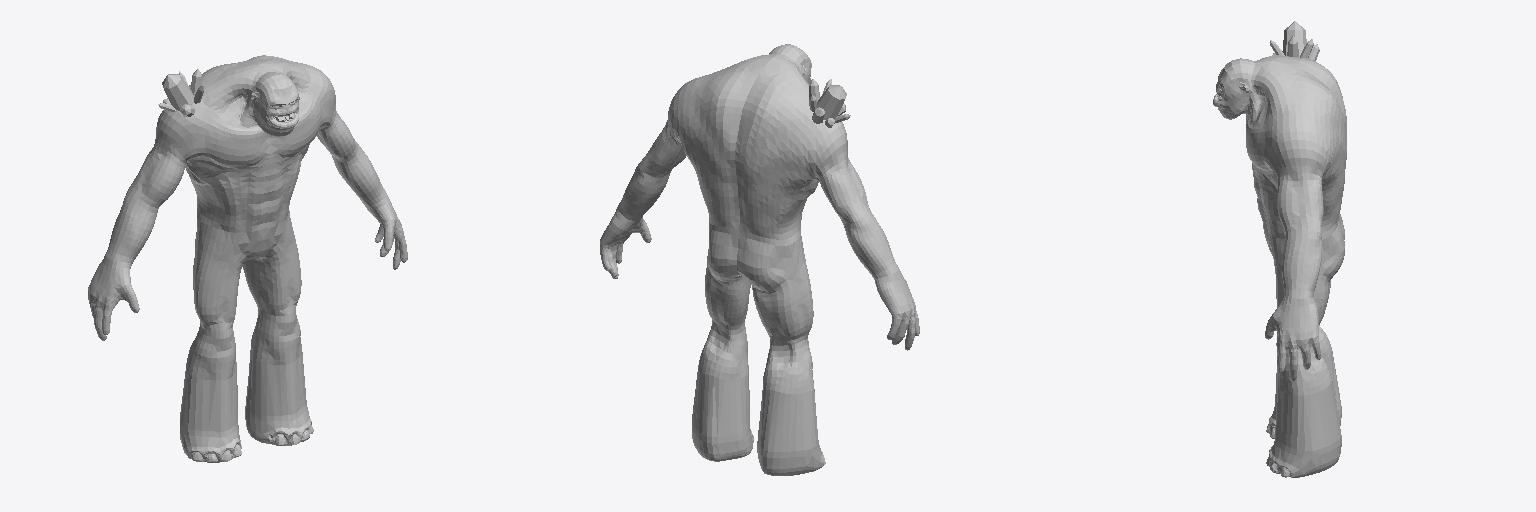
Rendered from wild_Giant_Lowpoly.obj.
3 renders of one model, left to right at view 1: azimuth 30°, elevation 25°; view 2: azimuth 150°, elevation 25°; view 3: azimuth 270°, elevation 25°, orthographic.
Parts seen in each view (by area): view 1: Giant_Body; view 2: Giant_Body; view 3: Giant_Body.
Boxes of the visible parts, x1,y1,x2,y2 form: Giant_Body: [88, 55, 407, 462]; Giant_Body: [600, 44, 919, 475]; Giant_Body: [1213, 21, 1346, 477].
Bounding box in the file's own units: 125 × 152 × 47.44.